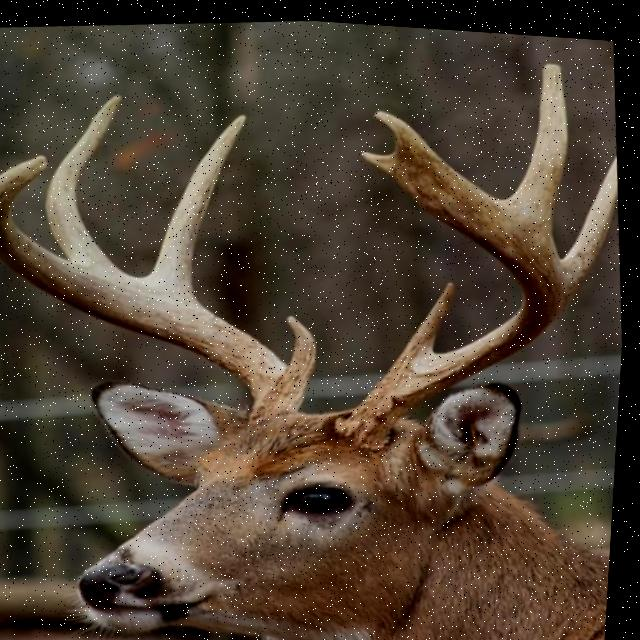E1: (362, 145, 398, 170)
L-F: (339, 103, 568, 443)
L-G1: (407, 274, 457, 347)
L-G2: (563, 147, 620, 296)
L-G3: (509, 55, 570, 216)
R-F: (0, 153, 310, 419)
R-G1: (282, 310, 320, 387)
R-G2: (148, 111, 248, 288)
R-G3: (47, 92, 124, 270)
